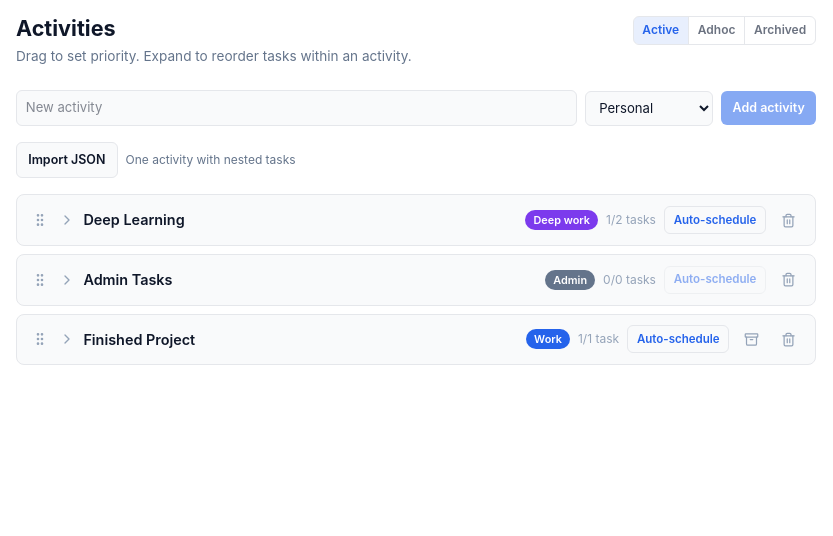
Test: ActivitiesPage › collapses an expanded activity on second click
What coordinates should you click on to do the following:
click the text "Deep Learning"
I would click on:
 (134, 220)
Its box is [83,211,185,228].
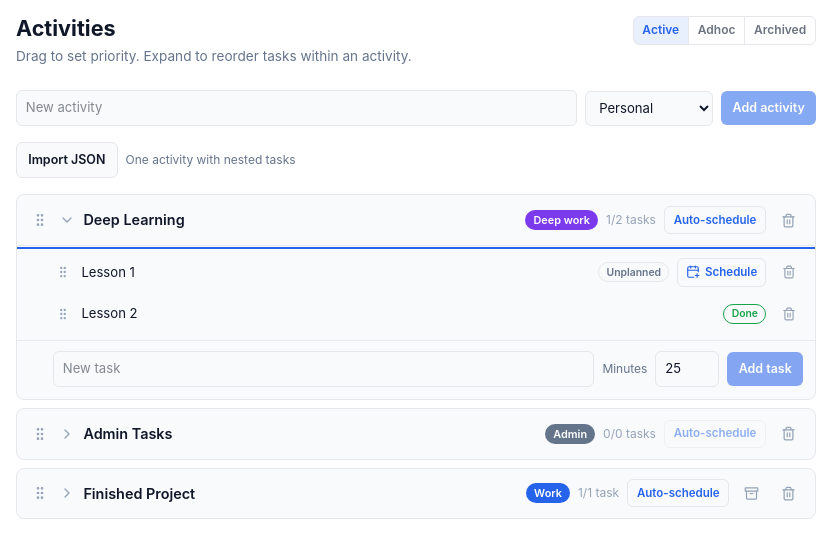
expect the button "Lesson 1" is shown: met, box [81,262,590,282]
What coordinates should you click on to do the following:
click the text "Deep Learning"
I would click on:
 (134, 220)
Its box is [83,211,185,228].
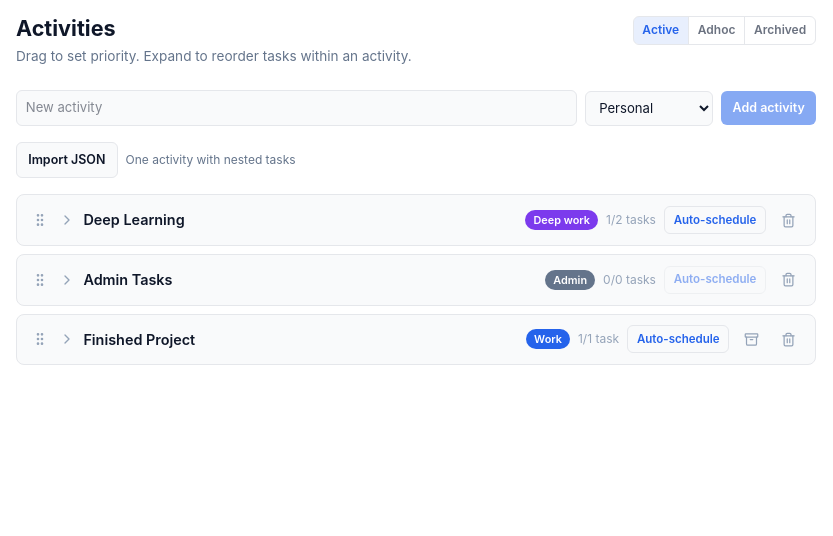
expect the button "Lesson 1" is gone: met
